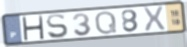3: (70, 11, 93, 37)
8: (120, 9, 139, 33)
H: (21, 15, 46, 41)
Q: (94, 10, 119, 36)
S: (45, 13, 70, 39)
X: (141, 5, 167, 33)
